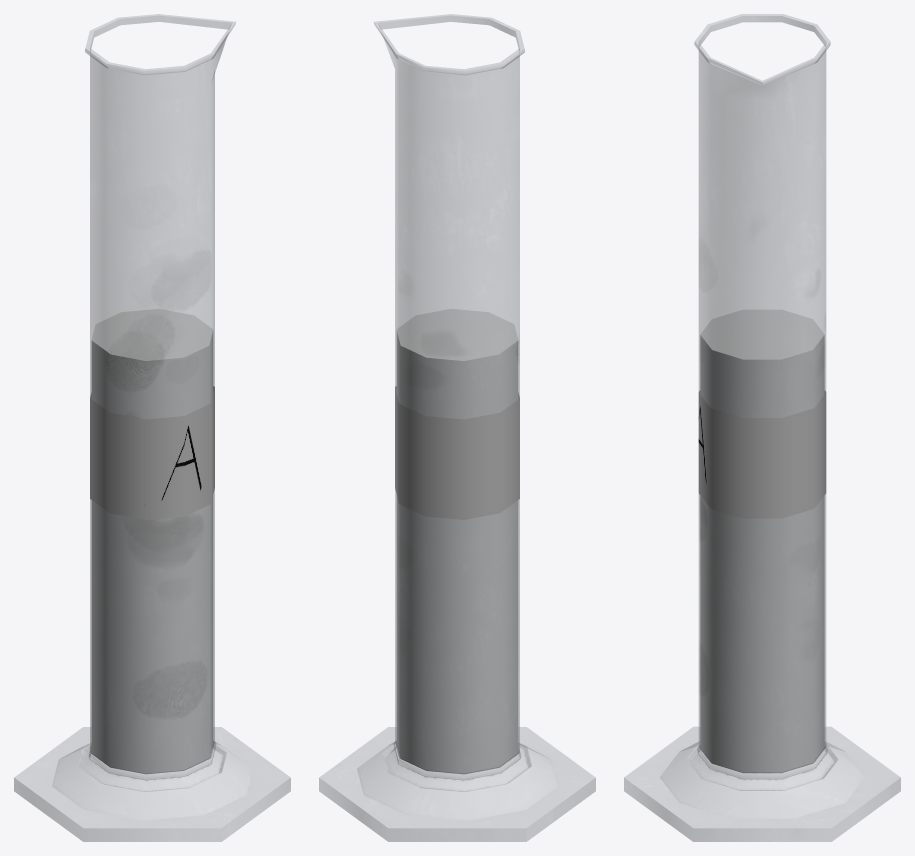
Rendered from TLLGraduatedCylinderA.glb.
3 views of the same model, side by side, from view 1: azimuth 30°, elevation 25°; view 2: azimuth 150°, elevation 25°; view 3: azimuth 270°, elevation 25° (orthographic).
Parts seen in each view (by area): view 1: BeakerwOpacity, BeakerLiquid, BeakerLetterA; view 2: BeakerwOpacity, BeakerLiquid, BeakerLetterA; view 3: BeakerwOpacity, BeakerLiquid, BeakerLetterA.
Boxes of the visible parts, x1,y1,x2,y2 form: BeakerwOpacity: (14,14,290,841); BeakerLiquid: (91,309,213,774); BeakerLetterA: (90,386,214,519); BeakerwOpacity: (319,14,595,841); BeakerLiquid: (396,309,518,774); BeakerLetterA: (395,386,519,519); BeakerwOpacity: (624,14,900,841); BeakerLiquid: (700,309,824,773); BeakerLetterA: (698,391,826,518).
Size of the model in its own units: 0.0863 by 0.2976 by 0.0996.
2 materials, 2 textured.
